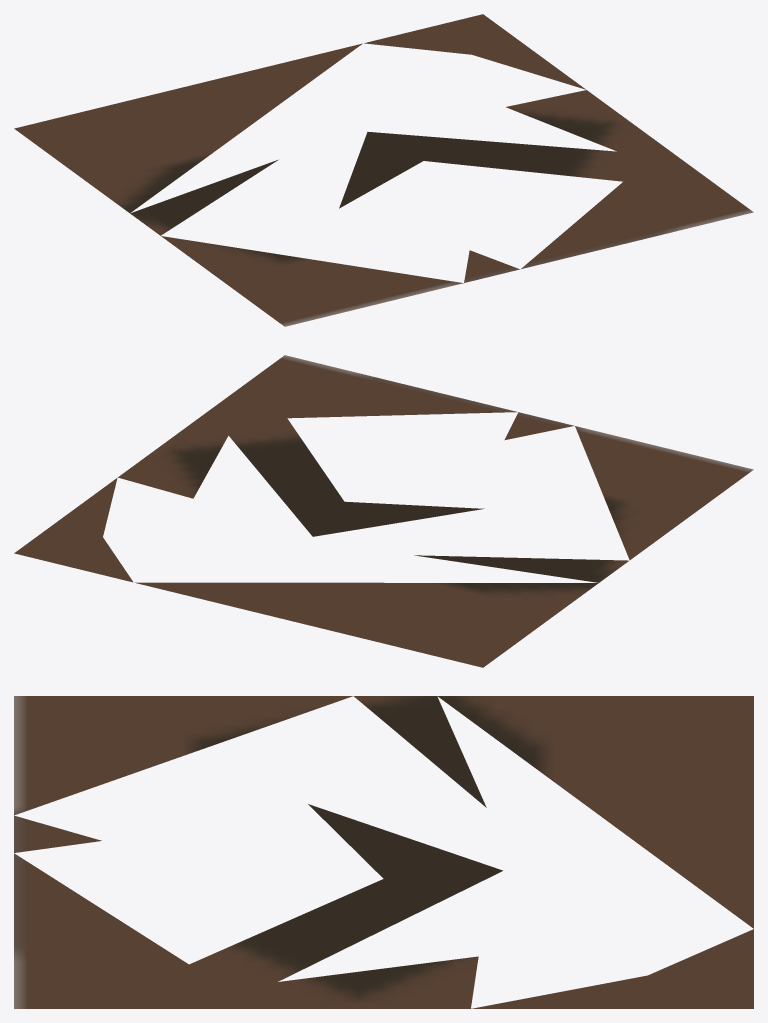
File: SelersRug_Yellow.fbx
The picture shows the model from 3 angles, top to bottom: view 1: azimuth 30°, elevation 25°; view 2: azimuth 150°, elevation 25°; view 3: azimuth 270°, elevation 25°; orthographic projection. The views are drawn at different scales.
Visible parts, largest first — view 1: SelersRug_Yellow; view 2: SelersRug_Yellow; view 3: SelersRug_Yellow.
Boxes of the visible parts, bbox=[...] form: SelersRug_Yellow: bbox=[14, 14, 753, 326]; SelersRug_Yellow: bbox=[14, 355, 753, 667]; SelersRug_Yellow: bbox=[14, 696, 753, 1008].
Bounding box in the file's own units: 7 × 0 × 7.
